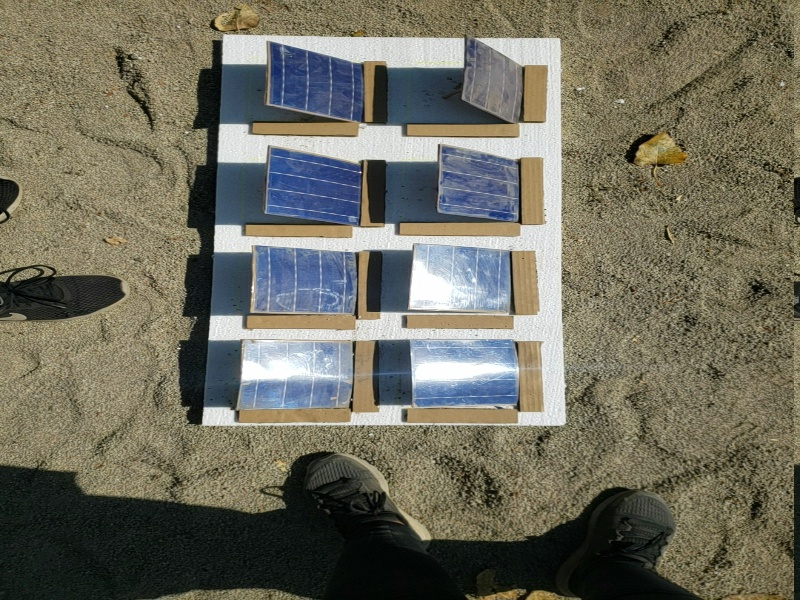clean: (265, 45, 370, 122), (263, 146, 362, 226)
dirty: (465, 33, 525, 120)
semi: (252, 245, 358, 318), (437, 142, 525, 222)
